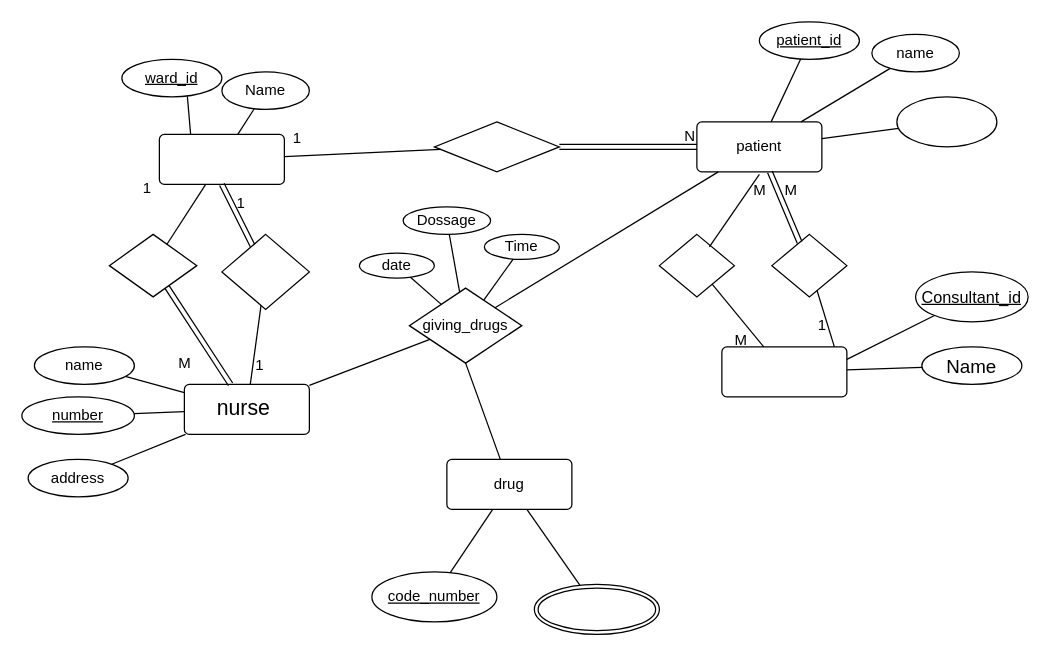
This 1050x656 diagram has some shape labels left out. Each missing label, with the centre of its shape:
"assign" goes at pixel 809 265.
"brand_name" goes at pixel 596 608.
"Consultants" goes at pixel 784 371.
"Date_of_Birth" goes at pixel 946 121.
"examine" goes at pixel 696 265.
"host" goes at pixel 496 146.
"serve" goes at pixel 152 265.
"supervision" goes at pixel 265 271.
"ward" goes at pixel 221 158.
